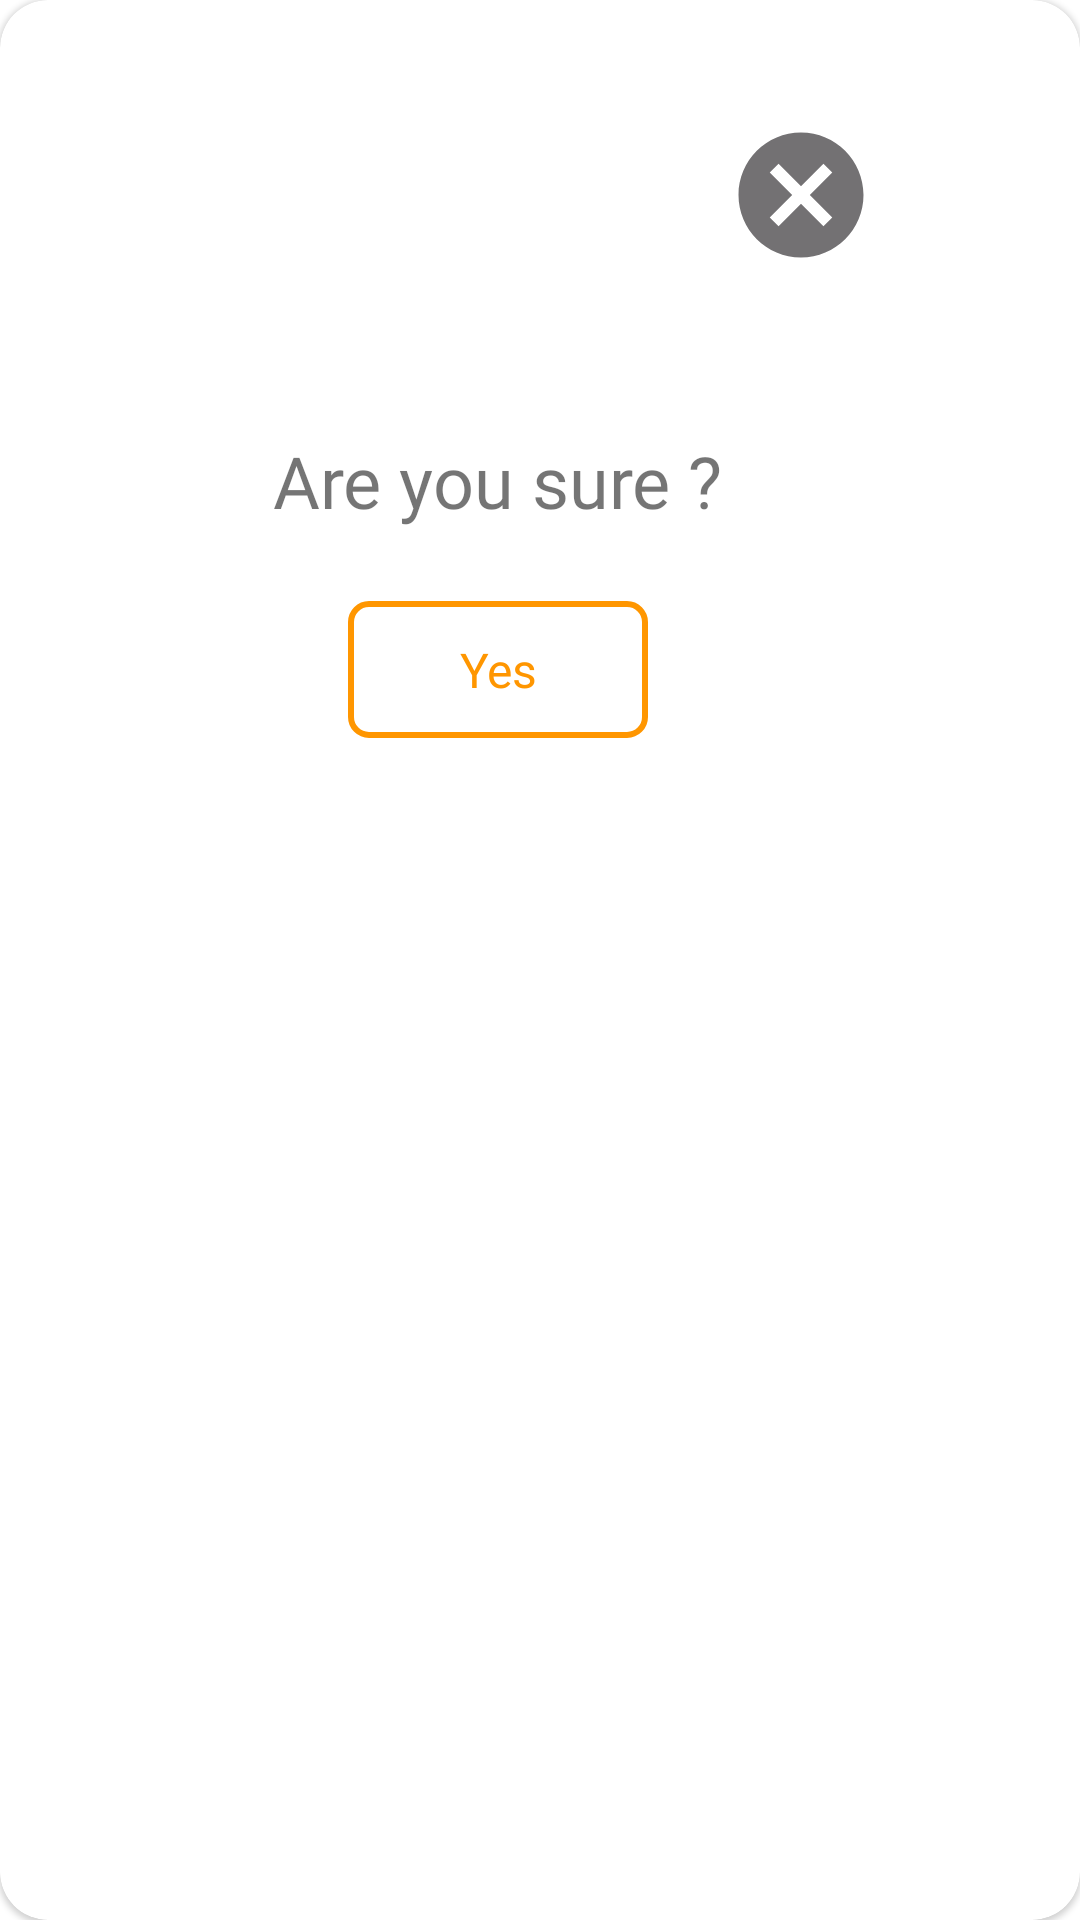

Icons on this 1080x1920 Android screen, each with the point to tap as [x,y]:
cancel: [801,195]
